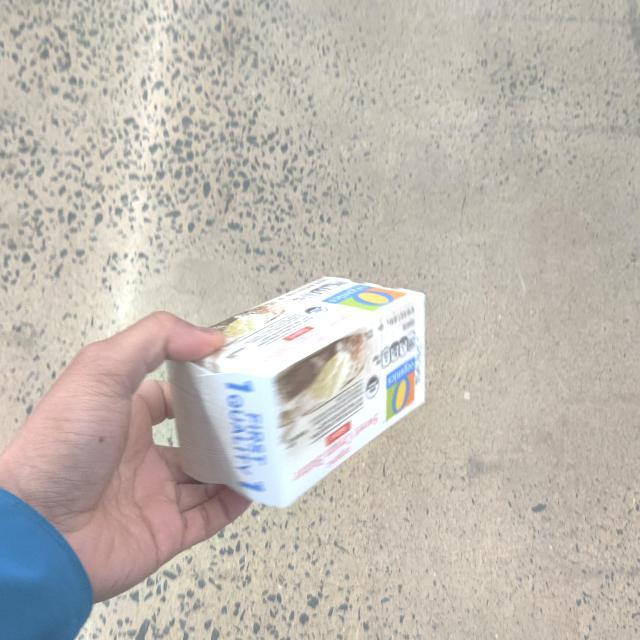Butter: (178, 277, 426, 512)
